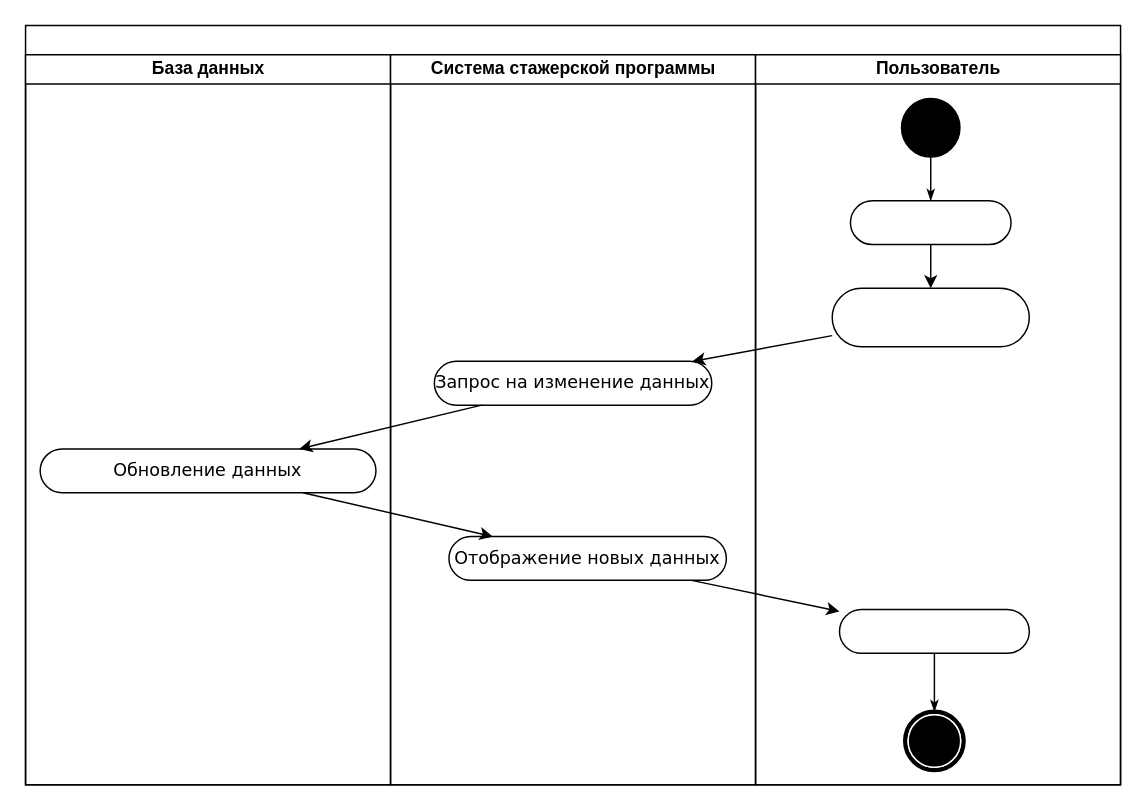
The diagram is 1146 pixels wide and 810 high, and some of its shapes have lost their labels. Each missing label, with the centre of its shape:
"Вход в систему" belongs at (930,222).
"Выход из системы" belongs at (933,630).
"Изменение личных данных" belongs at (930,317).
